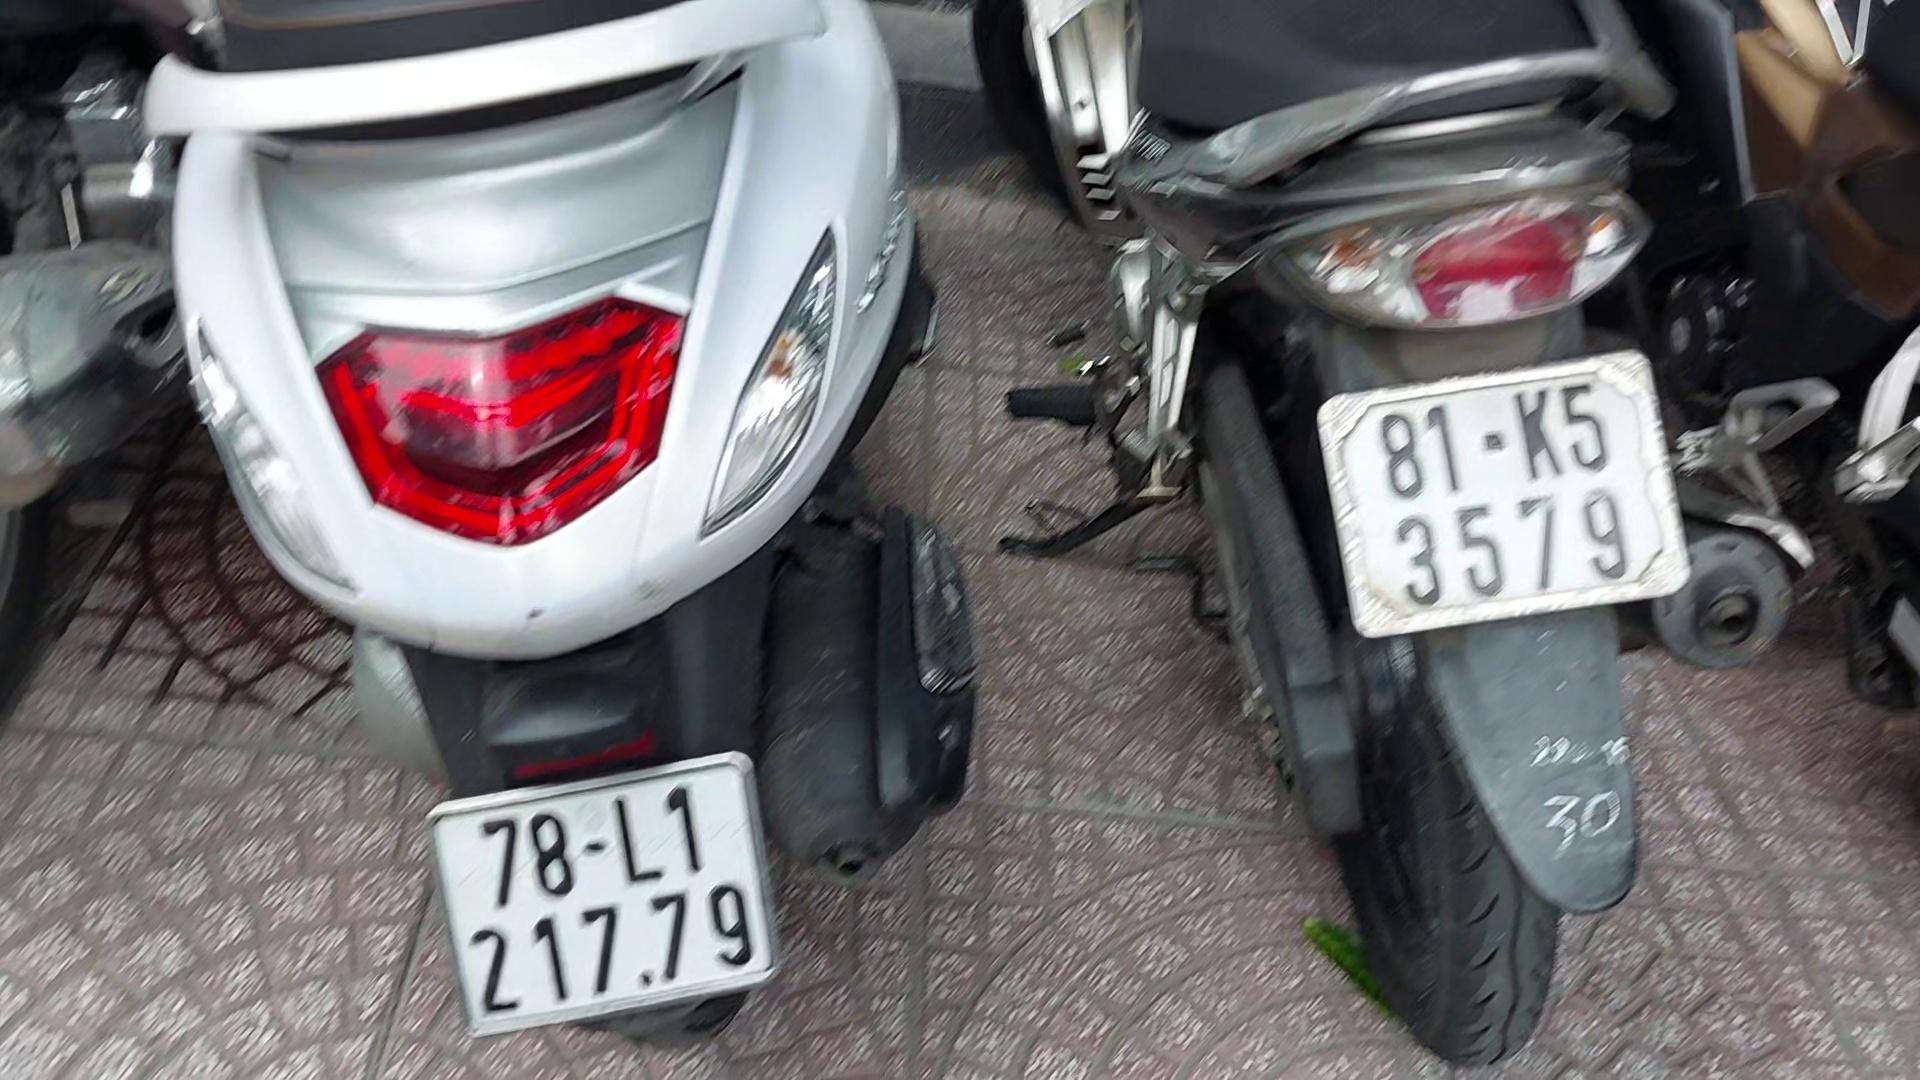numplate: (410, 767, 797, 1037), (1310, 353, 1700, 613)
